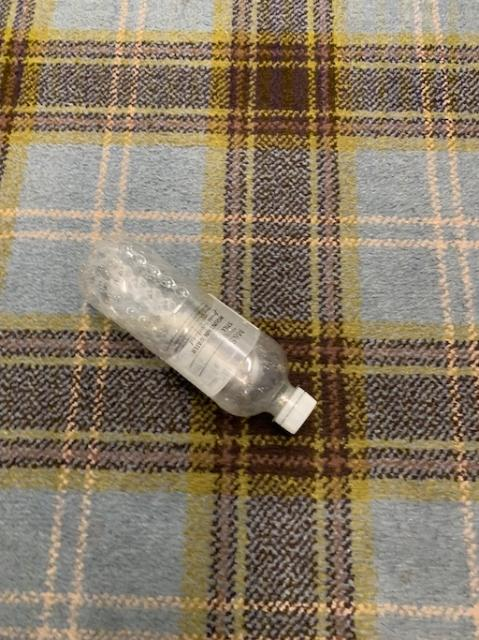plastic: (78, 235, 315, 432)
